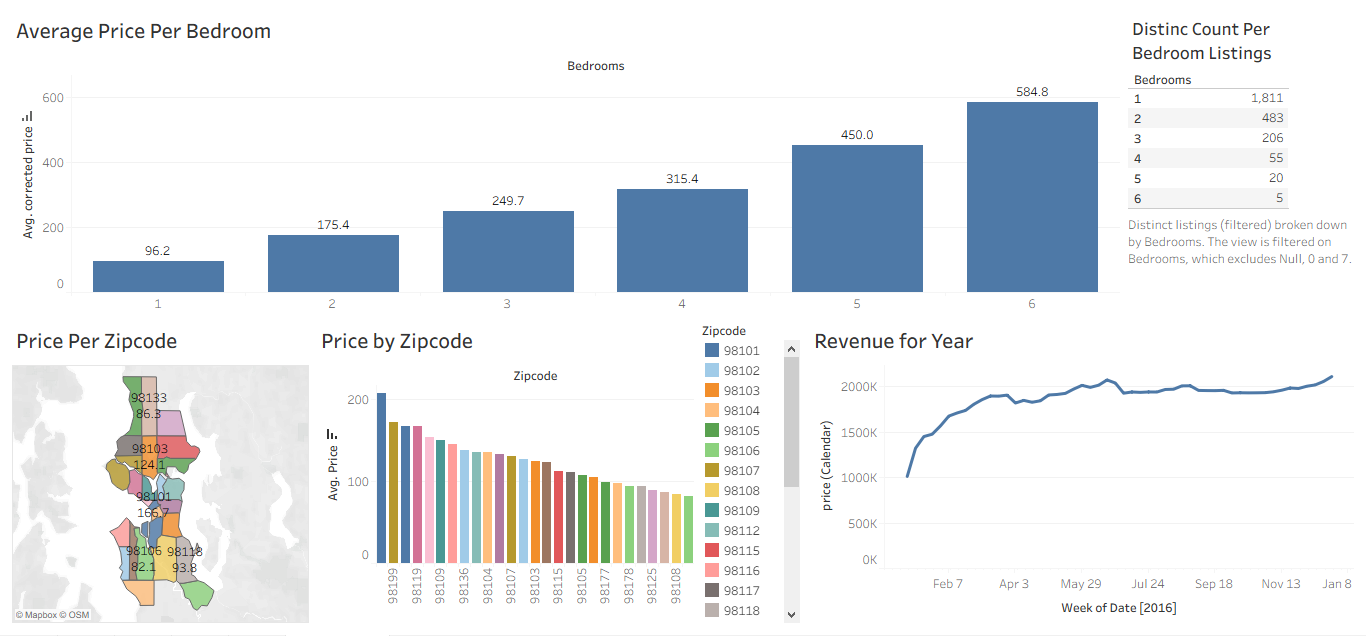

This screenshot's page, from the dashboard's own definition file:
{"tool":"tableau","page":{"name":"Dashboard 1","canvas":[1000,1000],"units":"permille","ordinal":0},"visuals":[{"type":"worksheet","title":"Sheet 4","mark":"Automatic","rows":["Calculation_0299381994221569"],"cols":["bedrooms"],"box":[6.9,14.5,815.6,485.5]},{"type":"worksheet","title":"Sheet 5","mark":"Automatic","rows":["bedrooms"],"box":[822.5,14.5,170.6,485.5]},{"type":"worksheet","title":"Sheet 2","mark":"Multipolygon","box":[6.9,500,222.6,485.5]},{"type":"worksheet","title":"Sheet 1","mark":"Automatic","rows":["price"],"cols":["zipcode"],"box":[229.5,500,281.3,485.5]},{"type":"legend","title":"Sheet 1","param":"[federated.19evl0y1856xo61d9wkxc1itr8fs].[none:zipcode:ok]","box":[510.8,500,78.8,485.5]},{"type":"worksheet","title":"Sheet 3","mark":"Automatic","rows":["price (Calendar)"],"cols":["date"],"box":[589.6,500,403.5,485.5]}]}

Visuals, with their boxes on the dashboard's canvas, which has no fixed pixel size, in thousandths of its width and height (x1, y1, x2, y2). These are canvas units, not pixel positions in the 1366x636 screenshot, which may show the page scaled, cropped or inside an application window:
"Sheet 4" worksheet: [x1=7, y1=14, x2=822, y2=500]
"Sheet 5" worksheet: [x1=822, y1=14, x2=993, y2=500]
"Sheet 2" worksheet (Multipolygon marks): [x1=7, y1=500, x2=230, y2=986]
"Sheet 1" worksheet: [x1=230, y1=500, x2=511, y2=986]
"Sheet 1" legend: [x1=511, y1=500, x2=590, y2=986]
"Sheet 3" worksheet: [x1=590, y1=500, x2=993, y2=986]
